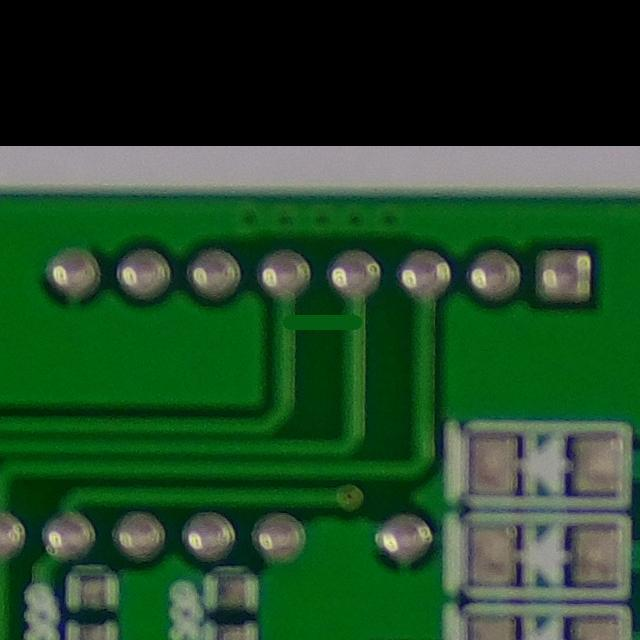short: (265, 289, 375, 351)
